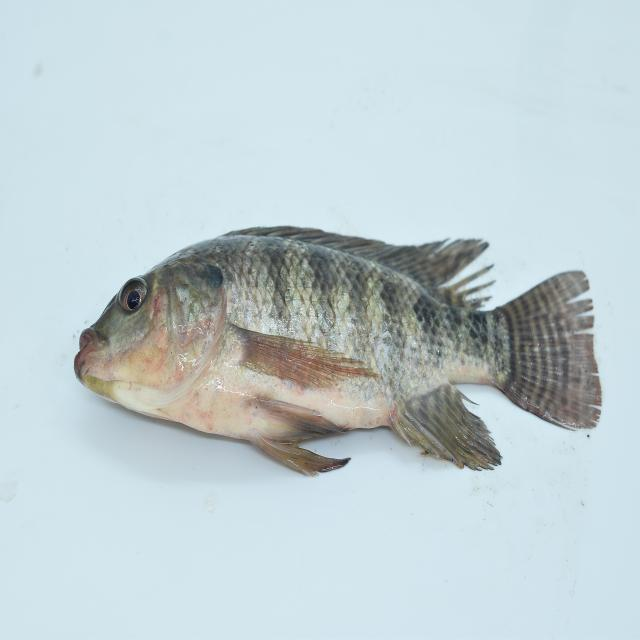Columnaris Disease: (59, 218, 625, 481)
